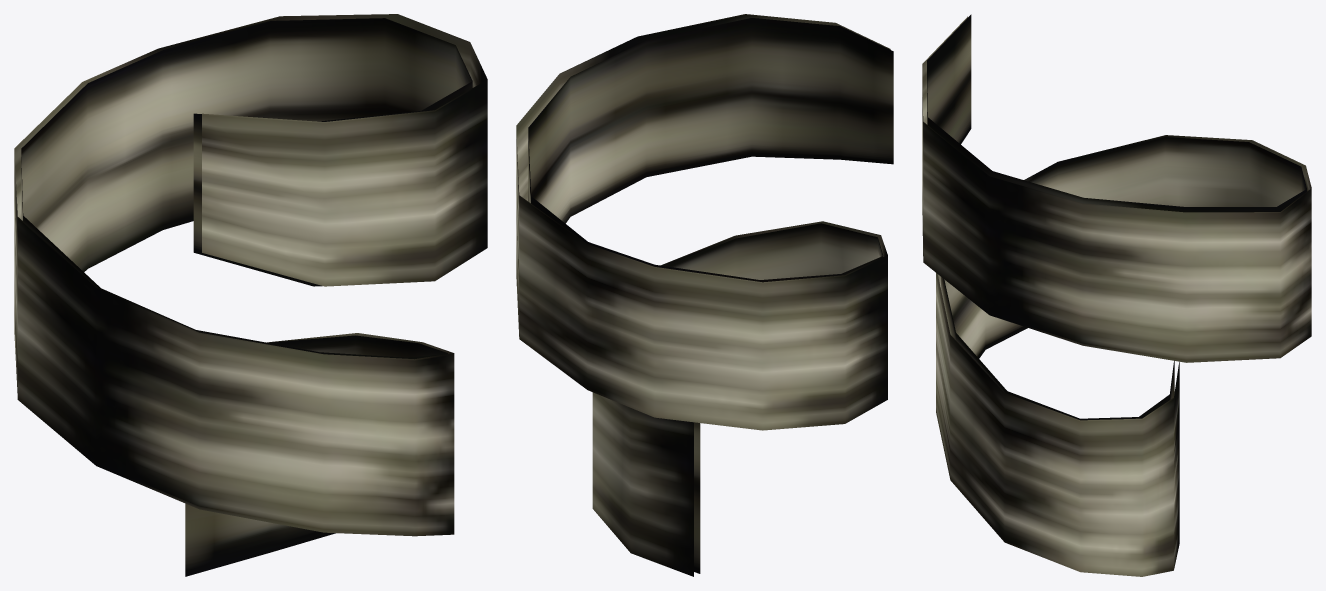
File: windSwirl.fbx
3 renders of one model, left to right at view 1: azimuth 30°, elevation 25°; view 2: azimuth 150°, elevation 25°; view 3: azimuth 270°, elevation 25°, orthographic. The views are drawn at different scales.
Visible parts, largest first — view 1: outer, inner; view 2: outer, inner; view 3: outer, inner.
Boxes of the visible parts, x1=… form: outer: x1=14, y1=14, x2=487, y2=536; inner: x1=21, y1=18, x2=472, y2=576; outer: x1=516, y1=14, x2=890, y2=576; inner: x1=528, y1=18, x2=893, y2=573; outer: x1=922, y1=16, x2=1311, y2=576; inner: x1=927, y1=14, x2=1306, y2=420.
Size of the model in its own units: 168 by 234 by 171.
1 material, 1 textured.
